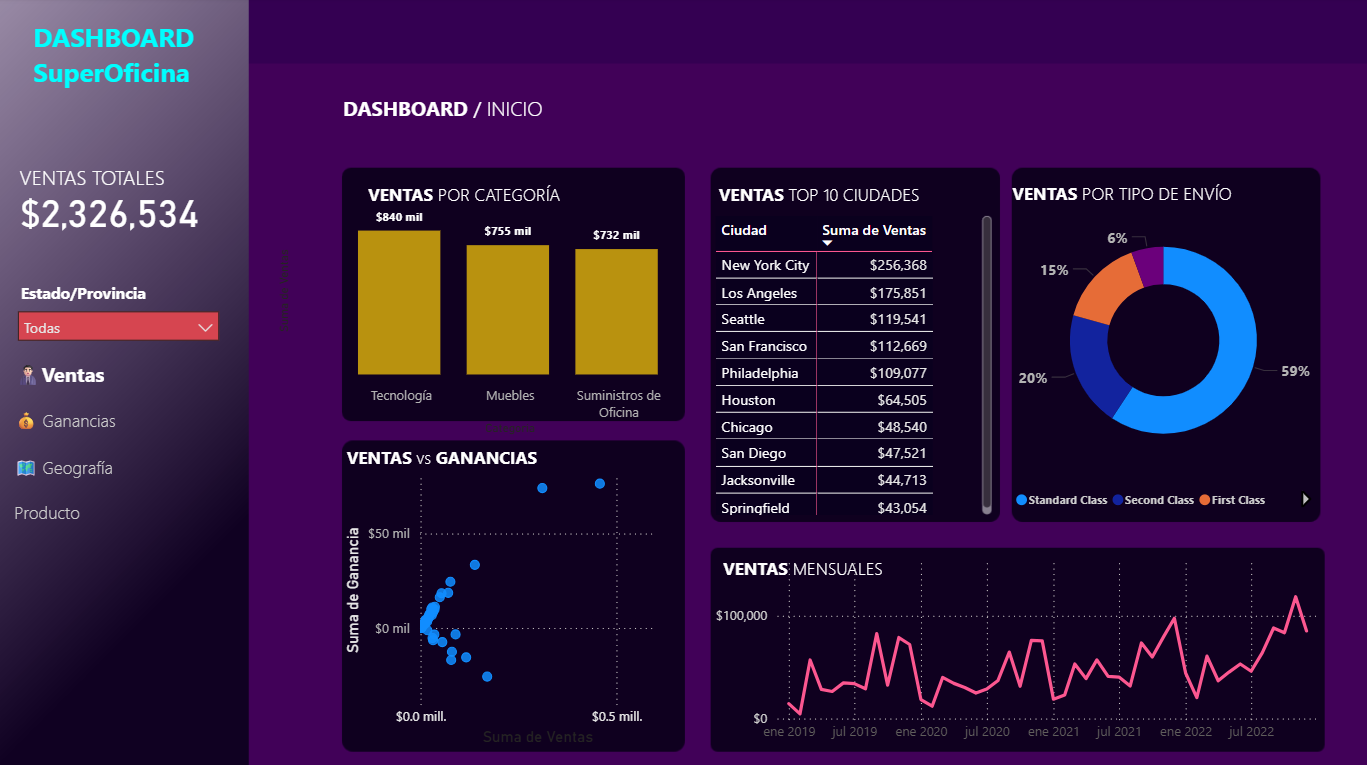

The dashboard page shown, as its layout file describes it:
{"tool":"powerbi","page":{"name":"👨🏻💼Ventas","canvas":[1280,720],"ordinal":0},"visuals":[{"type":"textbox","box":[308.6,86,211,40.8],"z":0},{"type":"textbox","box":[28.4,16,169.4,84.2],"z":1000},{"type":"card","fields":{"Values":["Sum(Supertienda Español.Ventas)"]},"box":[0,157.3,207.2,82.9],"z":2000},{"type":"textbox","box":[15.1,149.8,160.1,34.8],"z":3000},{"type":"clusteredColumnChart","fields":{"Category":["Supertienda Español.Categoria"],"Y":["Sum(Supertienda Español.Ventas)"]},"box":[255.2,180.8,407.8,230.8],"z":4000},{"type":"textbox","box":[317.4,149.8,232.6,62.2],"z":5000},{"type":"lineChart","fields":{"Category":["Supertienda Español.Fecha de Orden.Variación.Jerarquía de fechas.Año","Supertienda Español.Fecha de Orden.Variación.Jerarquía de fechas.Mes"],"Y":["Sum(Supertienda Español.Ventas)"]},"box":[663.1,514.3,572.7,187.4],"z":6000},{"type":"textbox","box":[632,497.3,232.6,62.2],"z":7000},{"type":"pivotTable","fields":{"Values":["Sum(Supertienda Español.Ventas)"],"Rows":["Supertienda Español.Ciudad"]},"box":[663.1,198.7,266.5,287.3],"z":8000},{"type":"donutChart","fields":{"Category":["Supertienda Español.Modo de Envio"],"Y":["Sum(Supertienda Español.Ventas)"]},"box":[941.5,180.6,284.8,305.2],"z":9000},{"type":"textbox","box":[648,149.8,232.6,62.2],"z":10000},{"type":"textbox","box":[929.6,149.4,233.2,61.3],"z":11000},{"type":"scatterChart","fields":{"X":["Sum(Supertienda Español.Ventas)"],"Y":["Sum(Supertienda Español.Ganancia)"],"Category":["Supertienda Español.Estado/Provincia"]},"box":[317,433.1,323.5,268.7],"z":12000},{"type":"textbox","box":[296.6,394.4,233.2,62.3],"z":13000},{"type":"slicer","fields":{"Values":["Supertienda Español.Estado/Provincia"]},"box":[8.6,260.1,207.4,73.1],"z":14000},{"type":"pageNavigator","box":[14.1,367.6,193.2,115.3],"z":15000},{"type":"bookmarkNavigator","box":[8.4,567.3,166.9,88.1],"z":16000}]}

Visuals, with their boxes in screenshot pixels (x1, y1, x2, y2), scaled from the page's 1280x720 canvas onto the 1367x765 screenshot:
textbox: <bbox>330, 91, 555, 135</bbox>
textbox: <bbox>30, 17, 211, 106</bbox>
card - Sum(Supertienda Español.Ventas): <bbox>0, 167, 221, 255</bbox>
textbox: <bbox>16, 159, 187, 196</bbox>
clusteredColumnChart - Supertienda Español.Categoria x Sum(Supertienda Español.Ventas): <bbox>273, 192, 708, 437</bbox>
textbox: <bbox>339, 159, 587, 225</bbox>
lineChart - Supertienda Español.Fecha de Orden.Variación.Jerarquía de fechas.Año x Supertienda Español.Fecha de Orden.Variación.Jerarquía de fechas.Mes: <bbox>708, 546, 1320, 746</bbox>
textbox: <bbox>675, 528, 923, 594</bbox>
pivotTable - Sum(Supertienda Español.Ventas) x Supertienda Español.Ciudad: <bbox>708, 211, 993, 516</bbox>
donutChart - Supertienda Español.Modo de Envio x Sum(Supertienda Español.Ventas): <bbox>1005, 192, 1310, 516</bbox>
textbox: <bbox>692, 159, 940, 225</bbox>
textbox: <bbox>993, 159, 1242, 224</bbox>
scatterChart - Sum(Supertienda Español.Ventas) x Sum(Supertienda Español.Ganancia): <bbox>339, 460, 684, 746</bbox>
textbox: <bbox>317, 419, 566, 485</bbox>
slicer - Supertienda Español.Estado/Provincia: <bbox>9, 276, 231, 354</bbox>
pageNavigator: <bbox>15, 391, 221, 513</bbox>
bookmarkNavigator: <bbox>9, 603, 187, 696</bbox>
